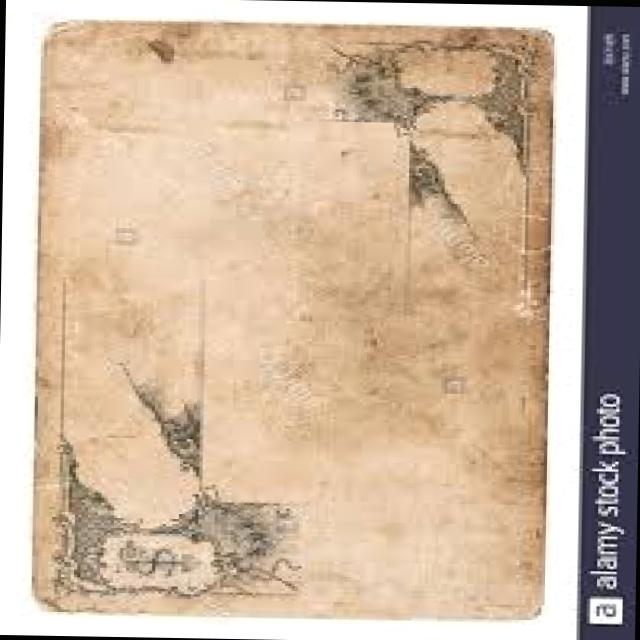paper: (35, 21, 550, 618)
